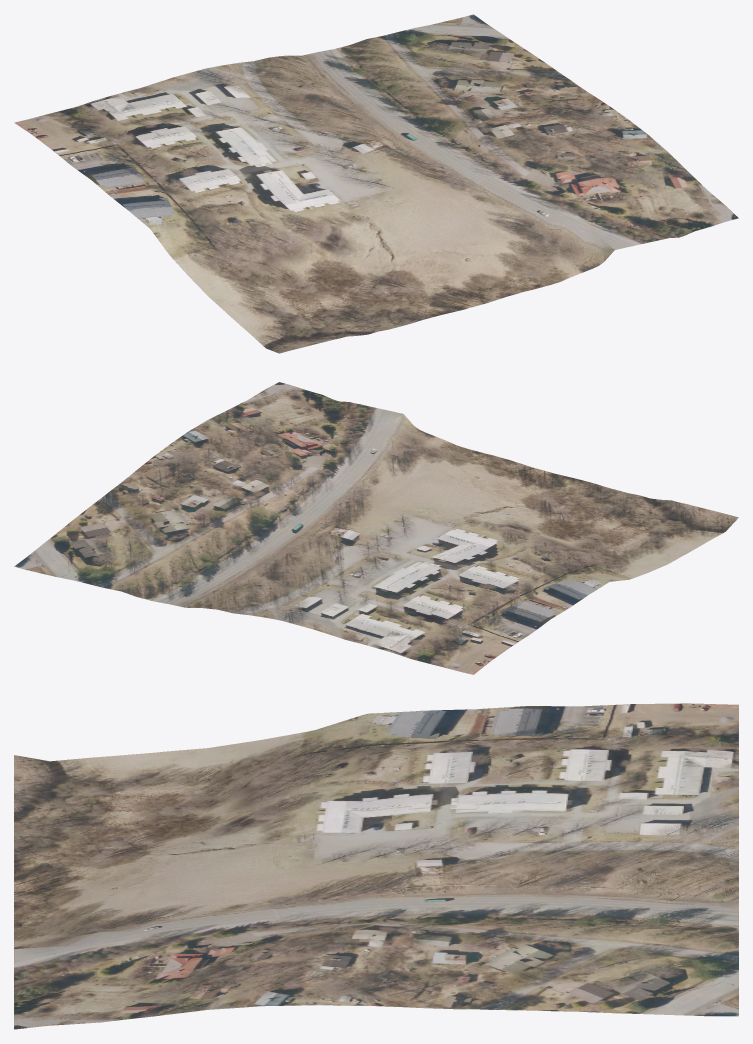
File: CM_Terrain_24491687_6818156.fbx
The picture shows the model from 3 angles, top to bottom: view 1: azimuth 30°, elevation 25°; view 2: azimuth 150°, elevation 25°; view 3: azimuth 270°, elevation 25°; orthographic projection. The views are drawn at different scales.
Parts seen in each view (by area): view 1: CM_Terrain_24491687_6818156_LOD0; view 2: CM_Terrain_24491687_6818156_LOD0; view 3: CM_Terrain_24491687_6818156_LOD0.
Boxes of the visible parts, x1,y1,x2,y2 form: CM_Terrain_24491687_6818156_LOD0: (14,14,738,353); CM_Terrain_24491687_6818156_LOD0: (14,382,738,674); CM_Terrain_24491687_6818156_LOD0: (14,703,738,1029).
Size of what is drawn, in the model's own units: 205 by 20.77 by 205.
